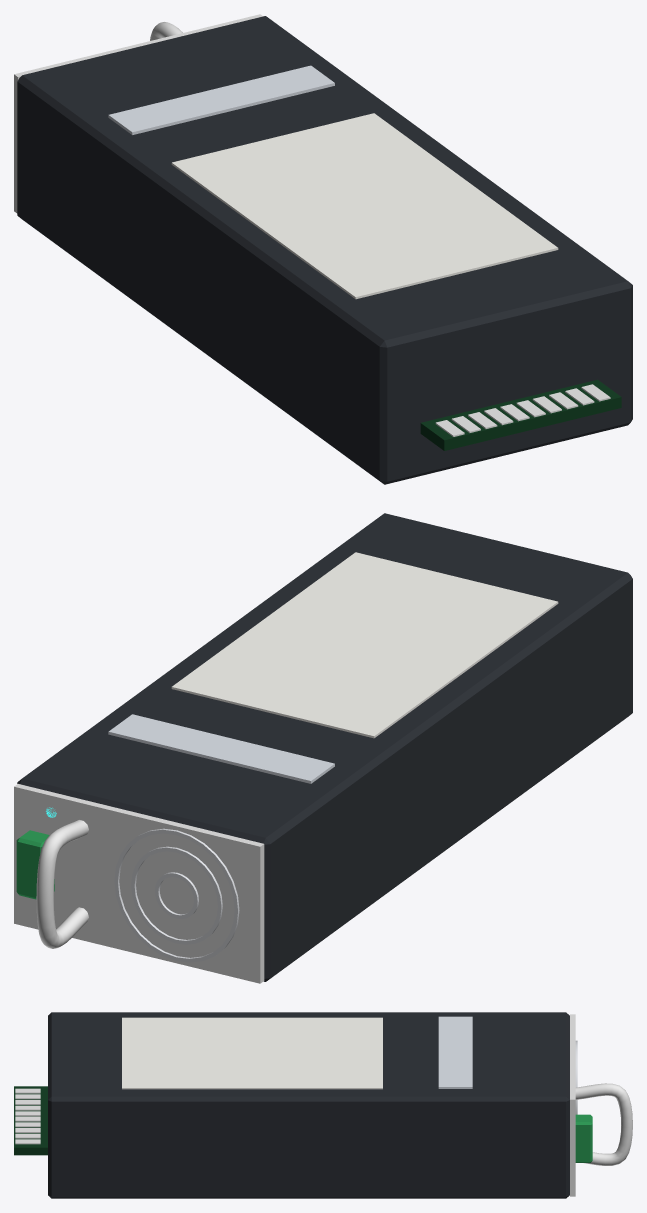
File: hw_psu_850w_plat.glb
The picture shows the model from 3 angles, top to bottom: view 1: azimuth 30°, elevation 25°; view 2: azimuth 150°, elevation 25°; view 3: azimuth 270°, elevation 25°; orthographic projection. The views are drawn at different scales.
Parts seen in each view (by area): view 1: Body; view 2: Body; view 3: Body.
Part boxes in pixels (left/top/right/bottom): Body: left=14, top=14, right=632, bottom=484; Body: left=14, top=513, right=632, bottom=983; Body: left=14, top=1012, right=632, bottom=1198.
Bounding box in the file's own units: 0.0735 × 0.041 × 0.2193.
